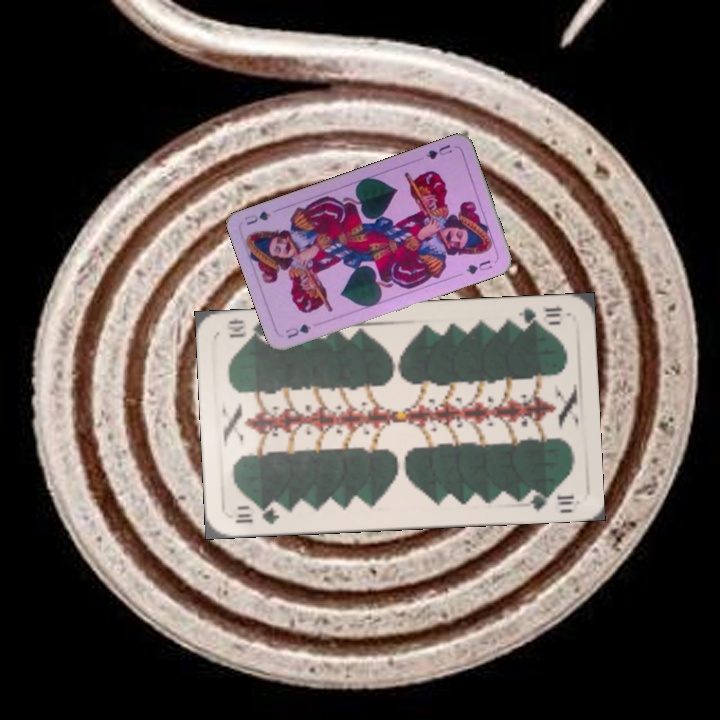G10: (515, 302, 566, 329), (231, 501, 282, 527)
GU: (422, 140, 455, 162), (281, 320, 314, 341)
